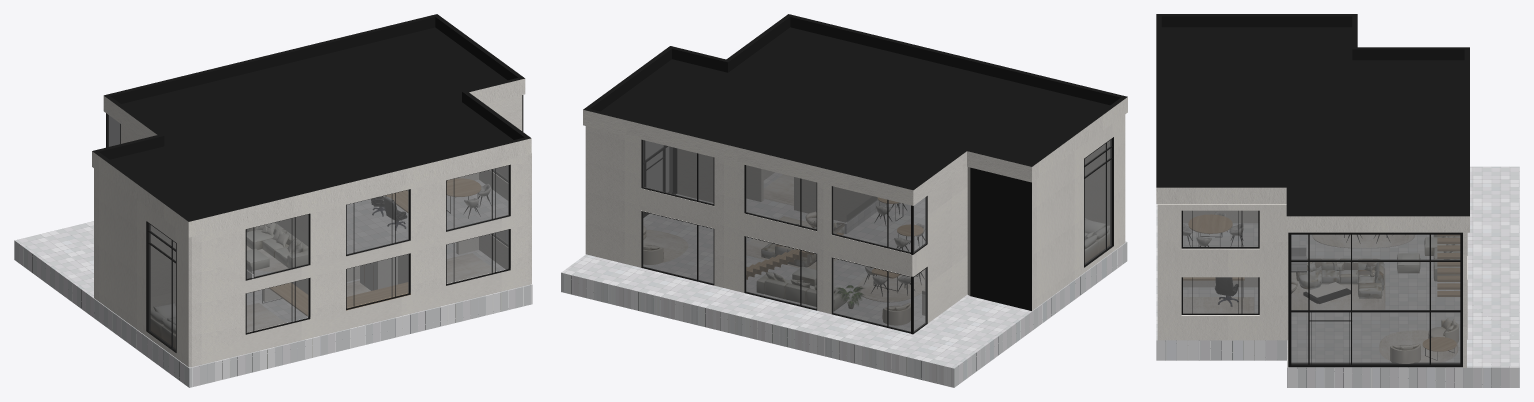
Rendered from loft.glb.
3 views of the same model, side by side, from view 1: azimuth 30°, elevation 25°; view 2: azimuth 150°, elevation 25°; view 3: azimuth 270°, elevation 25° (orthographic). The views are drawn at different scales.
Parts seen in each view (by area): view 1: Loft_Static, Loft_Glass; view 2: Loft_Static, Loft_Glass; view 3: Loft_Static, Loft_Glass.
Part boxes in pixels (x1,y1,x2,y2): Loft_Static: (14,14,532,387); Loft_Glass: (107,114,510,350); Loft_Static: (561,14,1127,387); Loft_Glass: (643,139,1111,332); Loft_Static: (1156,14,1519,387); Loft_Glass: (1183,210,1460,364).
Bounding box in the file's own units: 15.43 × 6.13 × 11.7.
Materials: 18 (16 with a texture image).
